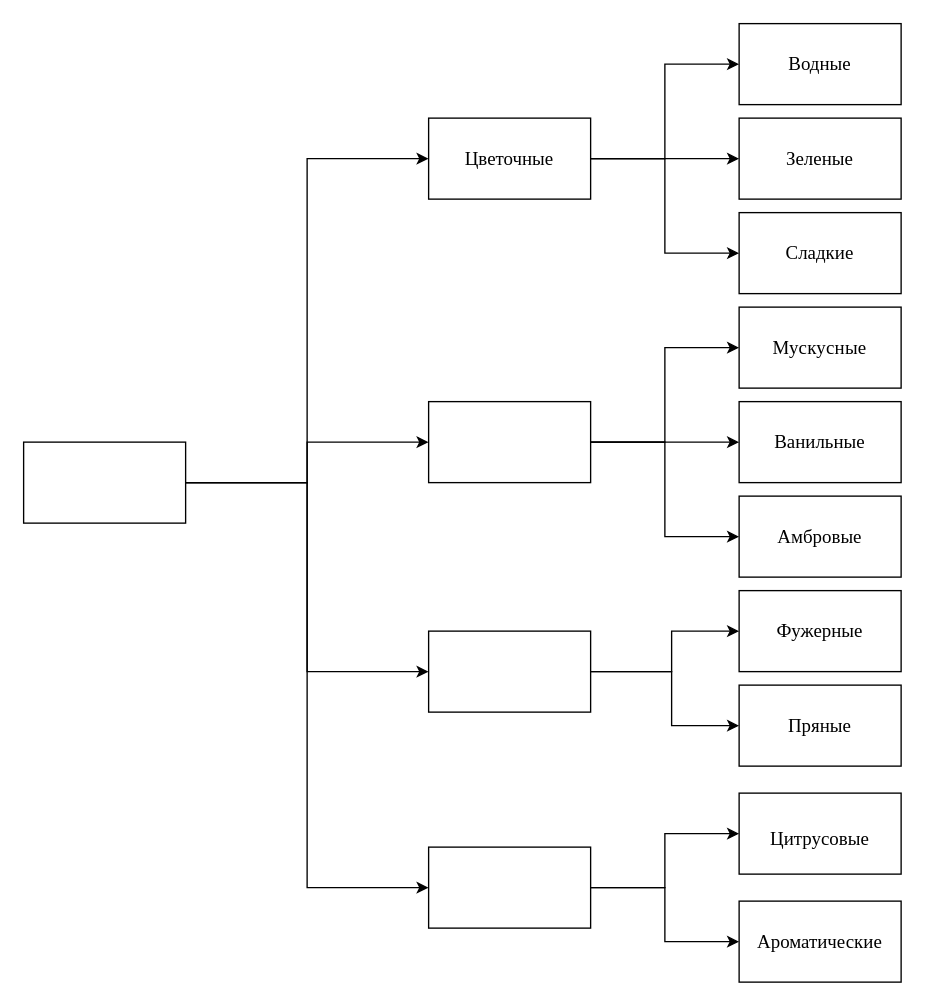
Some shapes in this 925 by 1006 pixel diagram are drawn without their labels. Each missing label, with the centre of its shape:
"Восточные" belongs at point 509,441.
"Древесные" belongs at point 509,671.
"Духи (парфюм)" belongs at point 104,482.
"Фруктовые" belongs at point 509,887.
